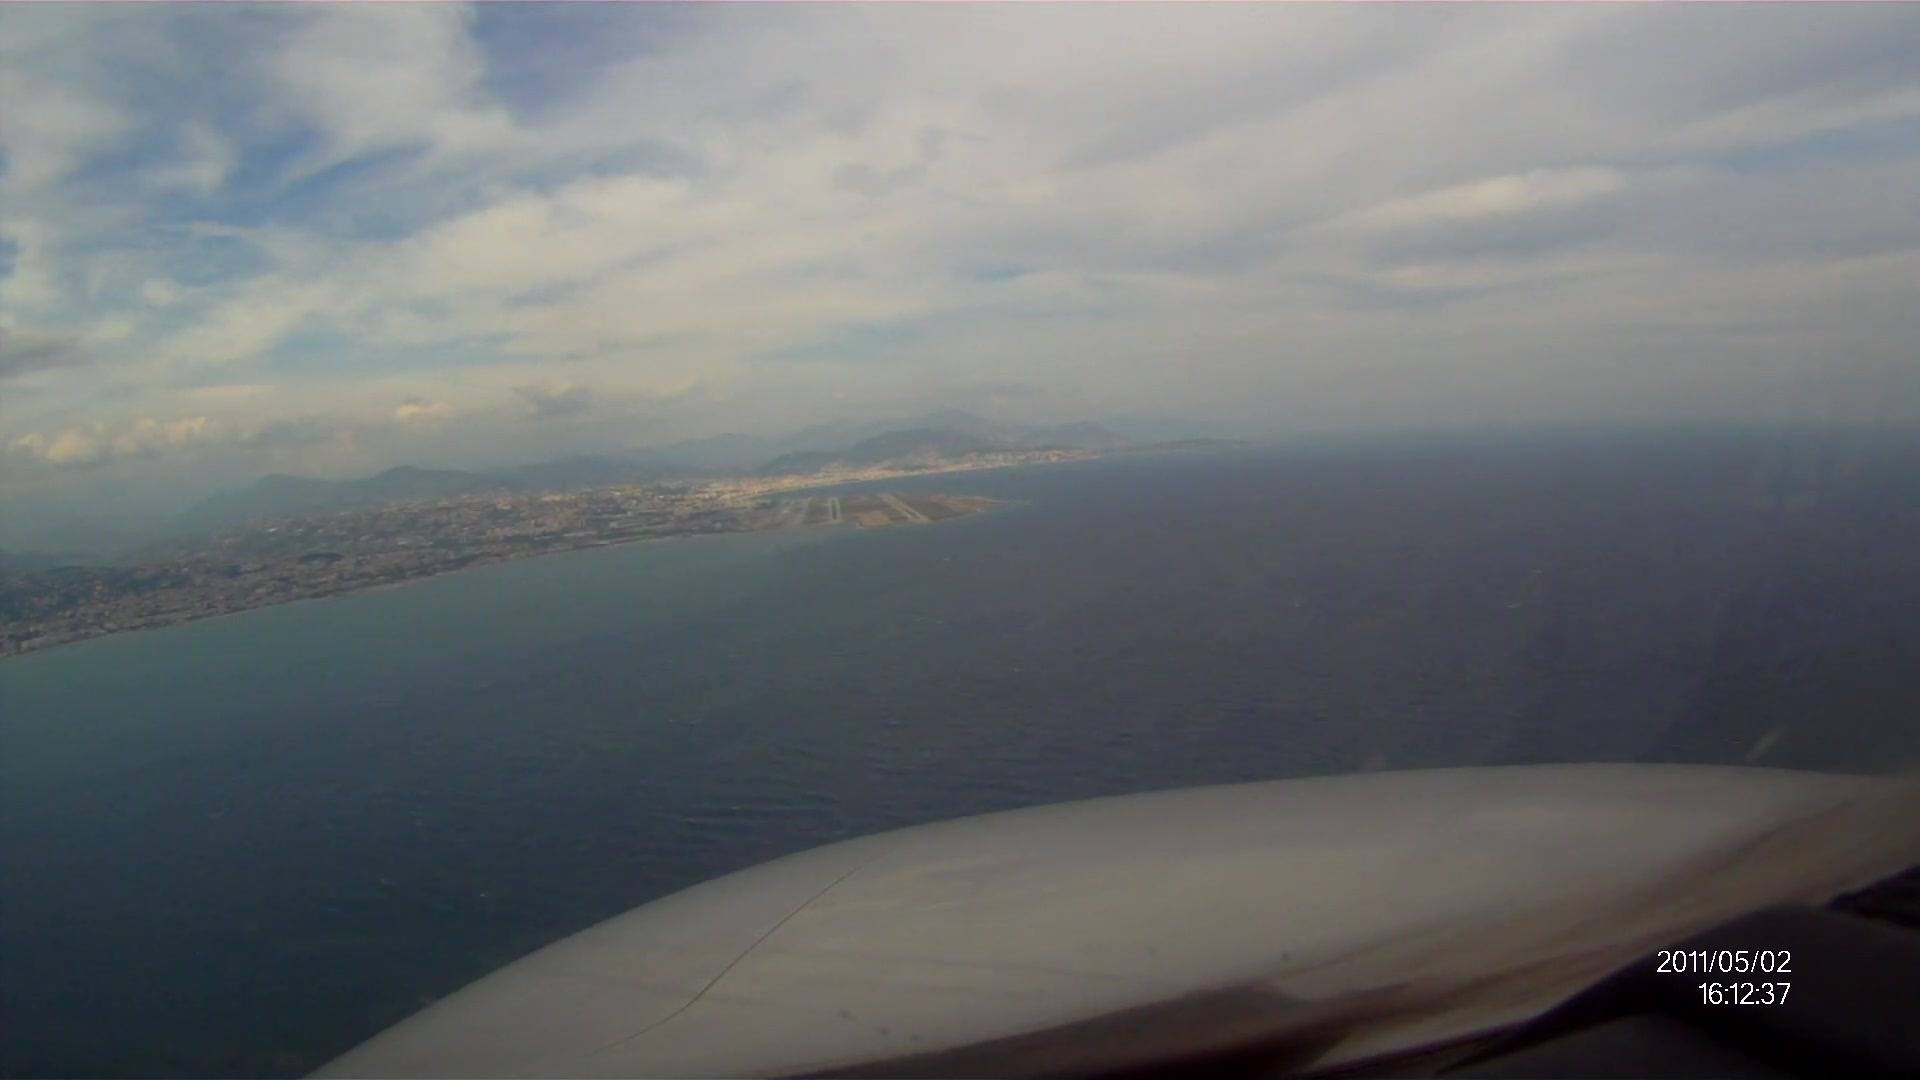runway: (878, 495, 940, 525), (825, 496, 845, 526)
